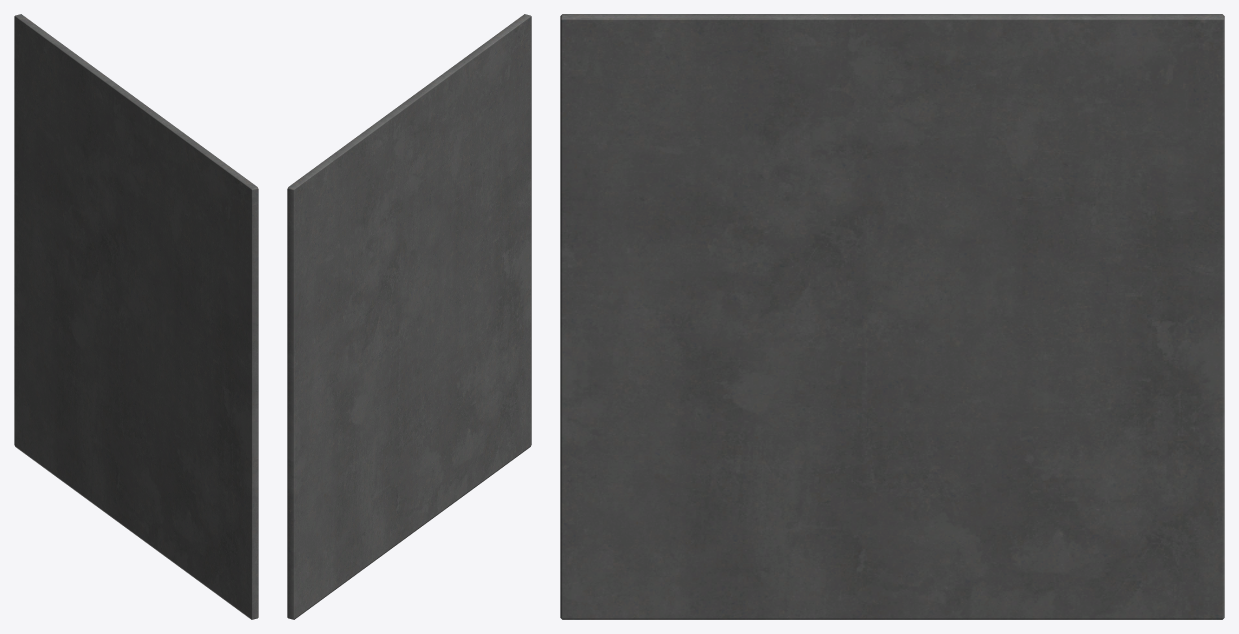
File: cP_Pathway03_Large.dae
The picture shows the model from 3 angles, left to right: view 1: azimuth 30°, elevation 25°; view 2: azimuth 150°, elevation 25°; view 3: azimuth 270°, elevation 25°; orthographic projection. The views are drawn at different scales.
Visible parts, largest first — view 1: cP_Pathway03_Large.001; view 2: cP_Pathway03_Large.001; view 3: cP_Pathway03_Large.001.
Part boxes in pixels (x1=…): cP_Pathway03_Large.001: x1=14, y1=14, x2=258, y2=619; cP_Pathway03_Large.001: x1=287, y1=14, x2=531, y2=619; cP_Pathway03_Large.001: x1=560, y1=14, x2=1224, y2=619.
Bounding box in the file's own units: 0.0653 × 4 × 4.
